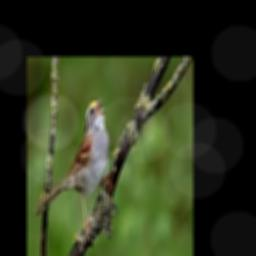Sparrow: (36, 97, 110, 245)
